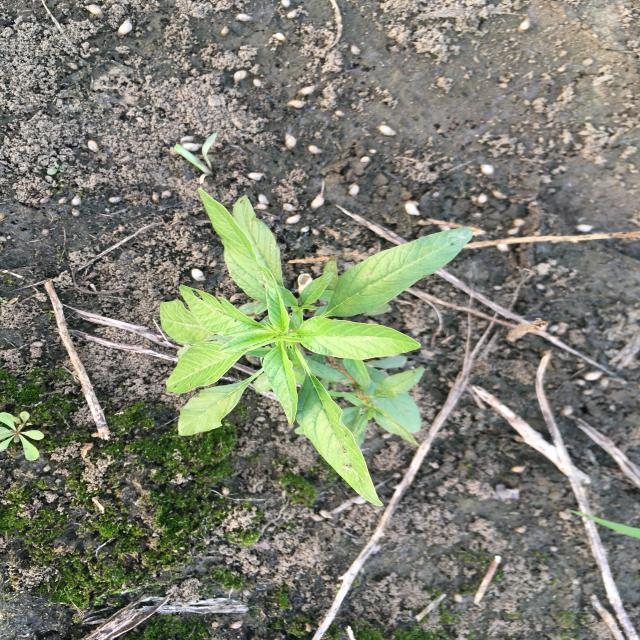Carpetweed: (0, 408, 47, 464)
Waterhemp: (156, 185, 476, 511)
